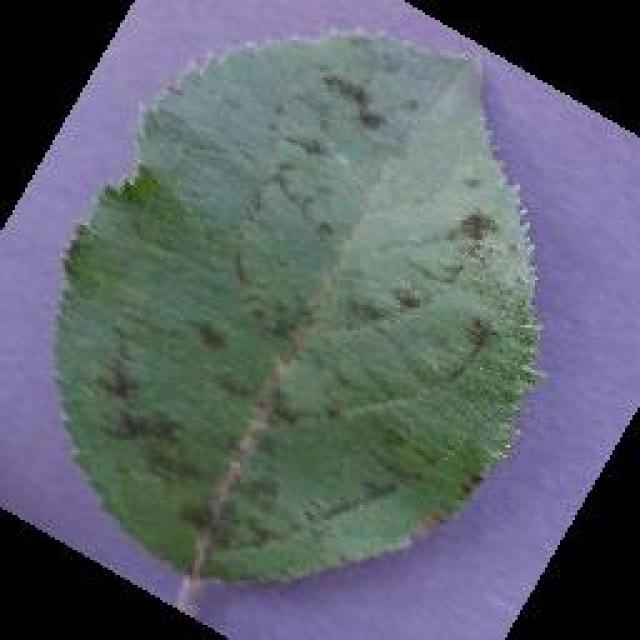apple scab disease: (47, 28, 545, 600)
